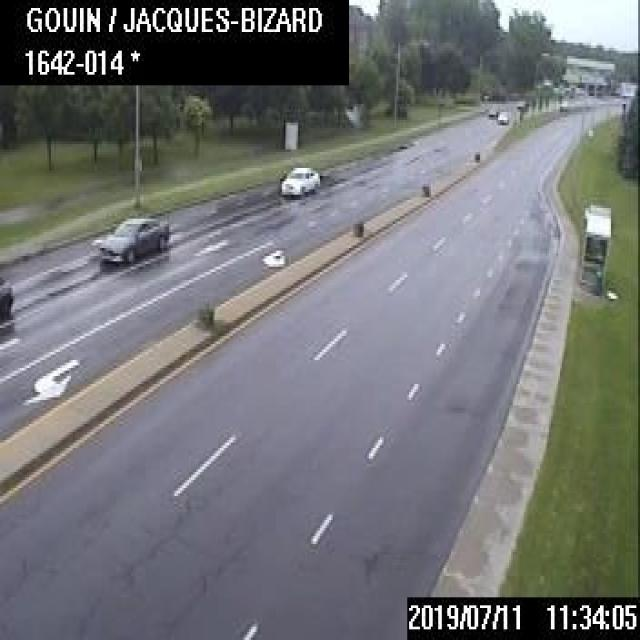vehicle: (98, 215, 168, 262), (280, 164, 318, 194), (0, 276, 11, 319), (496, 109, 508, 122), (514, 98, 528, 108), (486, 104, 496, 114)
